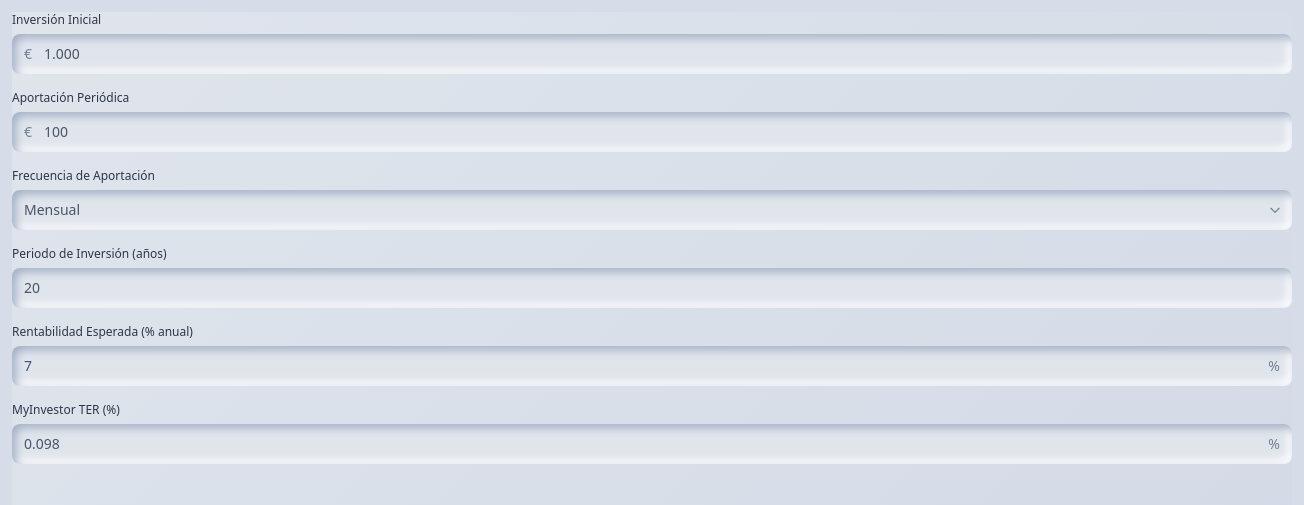
Test: SimulatorForm numeric input validation › should show error when expected return is not a valid number
Replace the text in the number field labelled "Rentabilidad Esperada (% anual)" with "abc" at (652, 366), box [12,346,1292,386]
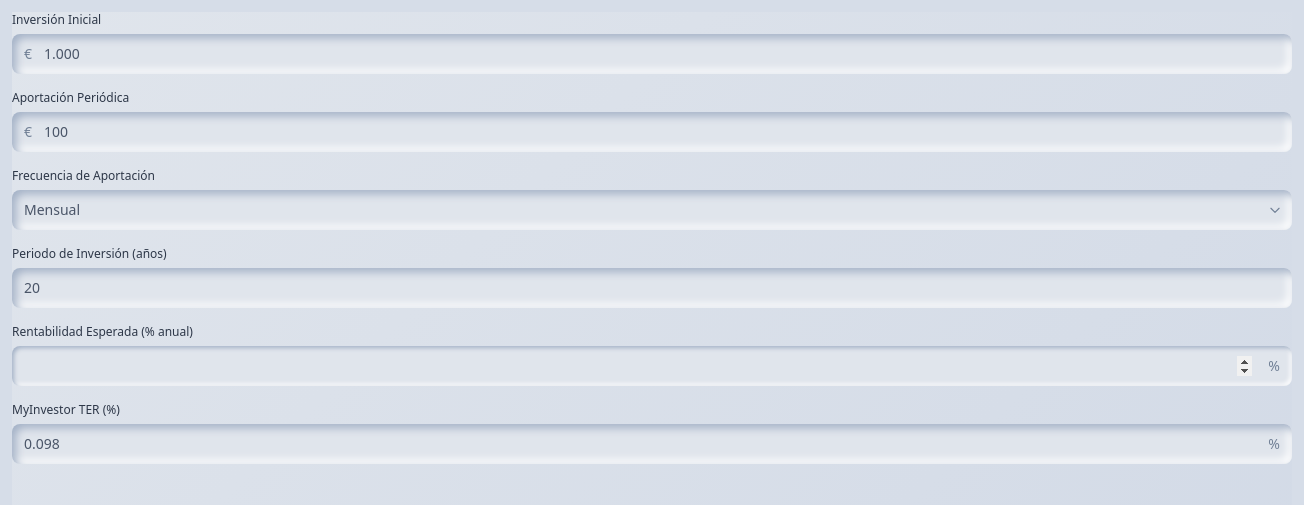
Press Tab
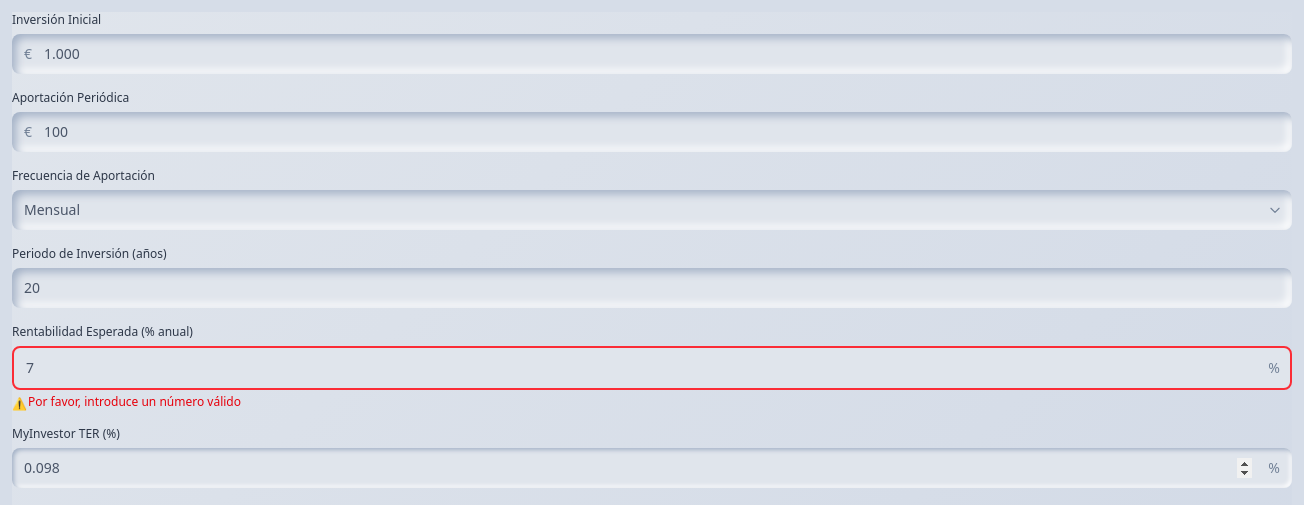
Expected: the text "⚠ Por favor, introduce un número válido" is shown, [12,393,241,412]
